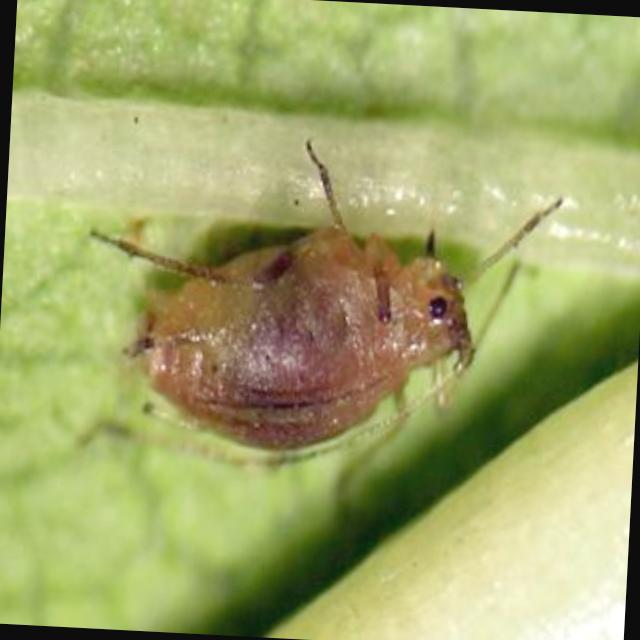Green peach aphid: (79, 111, 586, 562)
